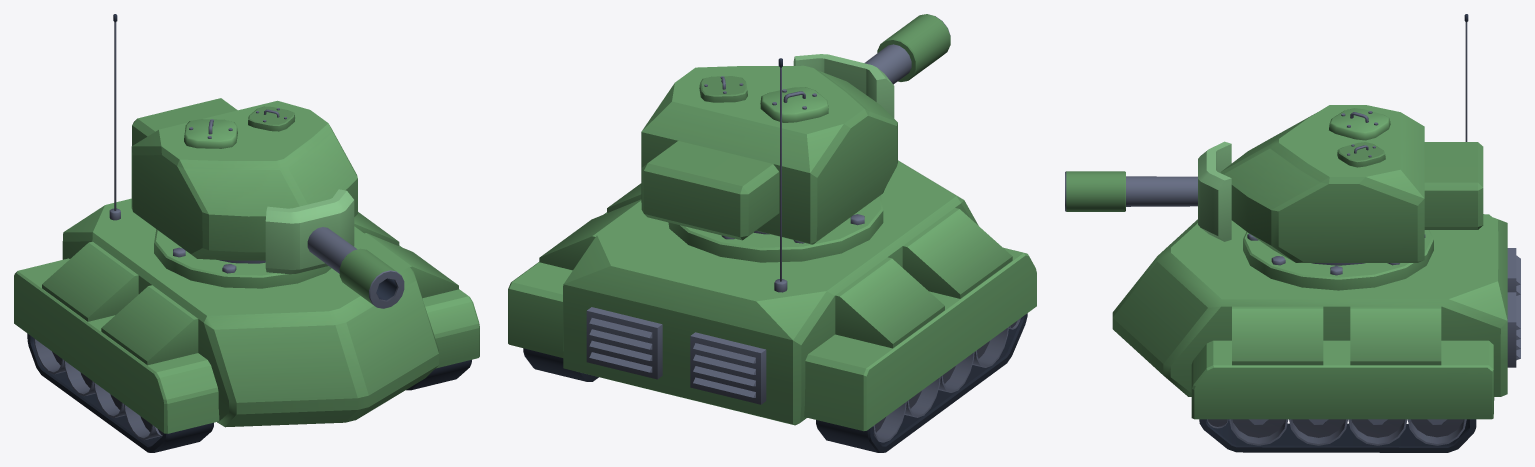
Rendered from toontank.obj.
3 renders of one model, left to right at view 1: azimuth 30°, elevation 25°; view 2: azimuth 150°, elevation 25°; view 3: azimuth 270°, elevation 25°, orthographic. The views are drawn at different scales.
Visible parts, largest first — view 1: Tank_Base_Cube.048, Tank_Tower_Cube.017, Tank_Barrel_Cube.002, Tank_Wheel_2_Cube.009, Tank_Wheel_3_Cube.004, Tank_Wheel_5_Cube.016, Tank_Wheel_4_Cube.006; view 2: Tank_Base_Cube.048, Tank_Tower_Cube.017, Tank_Barrel_Cube.002, Tank_Wheel_2_Cube.009, Tank_Wheel_4_Cube.006, Tank_Wheel_3_Cube.004, Tank_Wheel_5_Cube.016; view 3: Tank_Base_Cube.048, Tank_Tower_Cube.017, Tank_Barrel_Cube.002, Tank_Wheel_4_Cube.006, Tank_Wheel_3_Cube.004, Tank_Wheel_2_Cube.009, Tank_Wheel_5_Cube.016.
Boxes of the visible parts, <box> form: Tank_Base_Cube.048: <box>14,14,479,452</box>; Tank_Tower_Cube.017: <box>131,98,357,263</box>; Tank_Barrel_Cube.002: <box>265,189,404,308</box>; Tank_Wheel_2_Cube.009: <box>124,404,159,440</box>; Tank_Wheel_3_Cube.004: <box>93,382,125,417</box>; Tank_Wheel_5_Cube.016: <box>34,338,65,374</box>; Tank_Wheel_4_Cube.006: <box>64,360,95,396</box>; Tank_Base_Cube.048: <box>508,58,1036,452</box>; Tank_Tower_Cube.017: <box>641,65,897,244</box>; Tank_Barrel_Cube.002: <box>793,14,950,118</box>; Tank_Wheel_2_Cube.009: <box>972,327,1008,367</box>; Tank_Wheel_4_Cube.006: <box>904,377,940,417</box>; Tank_Wheel_3_Cube.004: <box>938,352,974,392</box>; Tank_Wheel_5_Cube.016: <box>873,402,906,442</box>; Tank_Base_Cube.048: <box>1112,14,1520,452</box>; Tank_Tower_Cube.017: <box>1220,105,1483,265</box>; Tank_Barrel_Cube.002: <box>1065,141,1231,241</box>; Tank_Wheel_4_Cube.006: <box>1348,419,1407,445</box>; Tank_Wheel_3_Cube.004: <box>1289,419,1347,445</box>; Tank_Wheel_2_Cube.009: <box>1229,419,1288,445</box>; Tank_Wheel_5_Cube.016: <box>1407,419,1466,445</box>.
Size of the model in its own units: 3.62 by 3.66 by 4.56.
